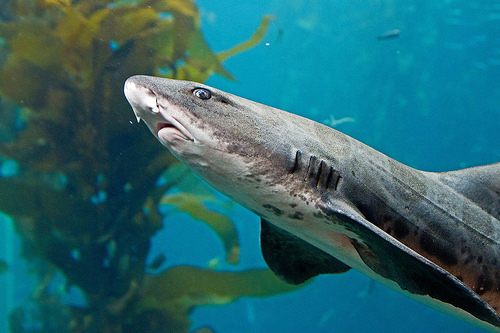shark: (101, 50, 498, 328)
